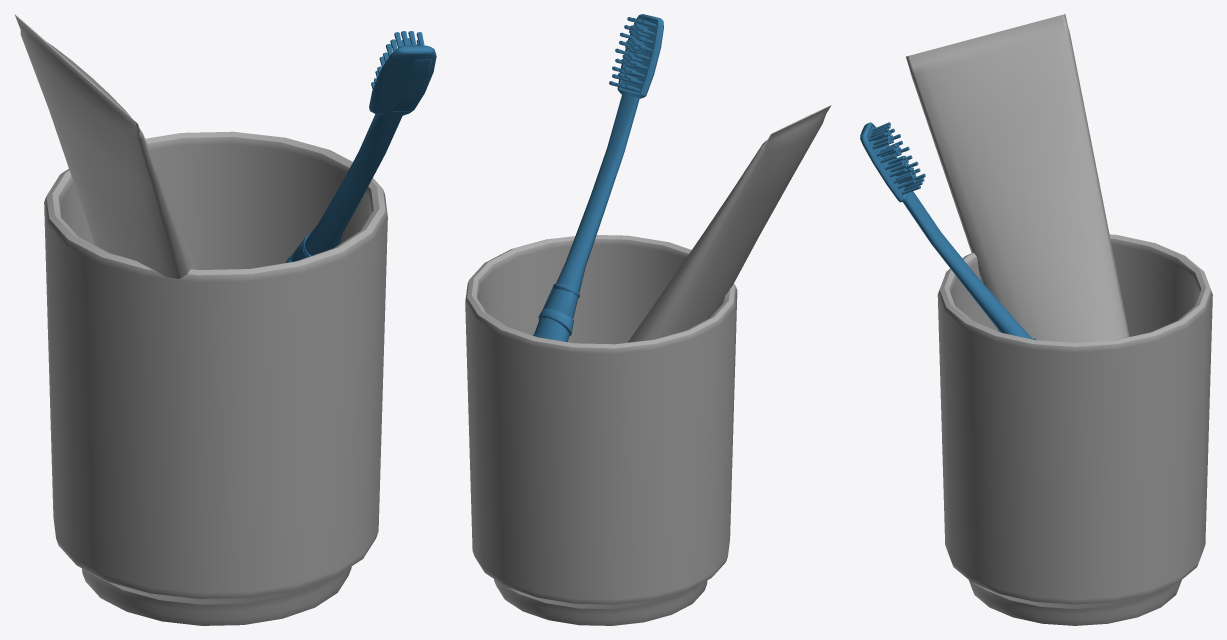
File: cup_with_toothbrush.fbx
The picture shows the model from 3 angles, left to right: view 1: azimuth 30°, elevation 25°; view 2: azimuth 150°, elevation 25°; view 3: azimuth 270°, elevation 25°; orthographic projection. The views are drawn at different scales.
Parts seen in each view (by area): view 1: polySurface99; view 2: polySurface99; view 3: polySurface99.
Part boxes in pixels (box(x1,y1,x2,y2)): polySurface99: box(14, 14, 436, 625); polySurface99: box(465, 14, 831, 625); polySurface99: box(860, 14, 1212, 625).
Size of the model in its own units: 0.1471 by 0.2416 by 0.1579.
